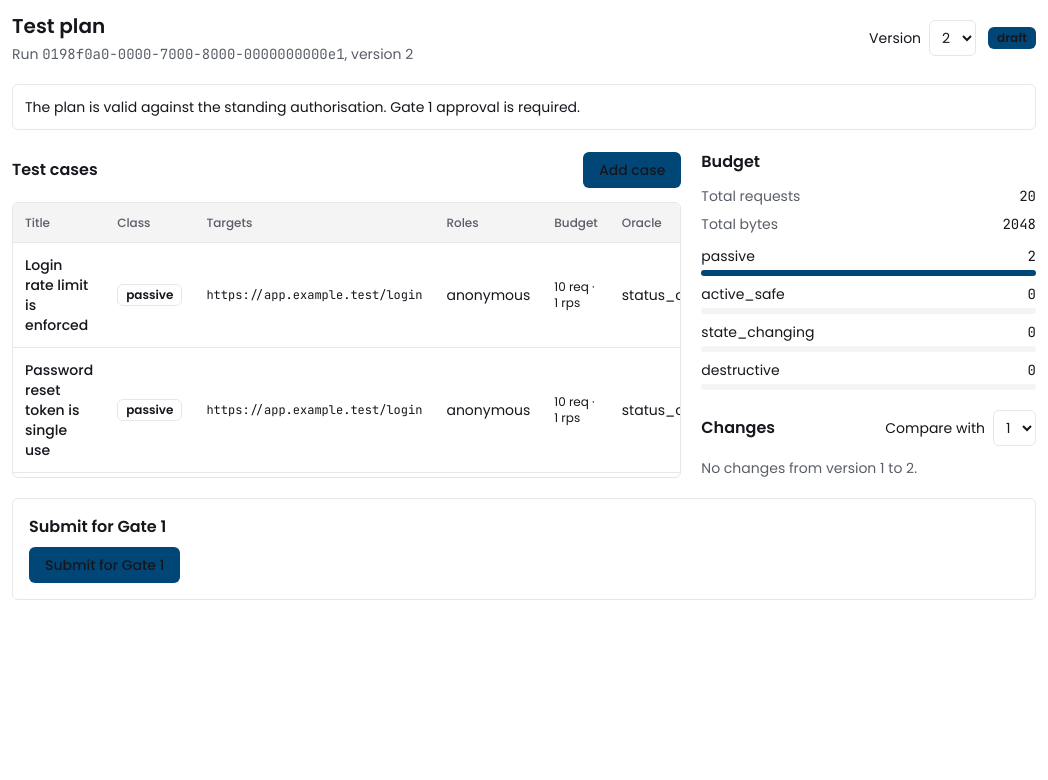
PlanEditor › submits a valid draft for Gate 1 and shows the run awaiting Gate 1
Click the button "Submit for Gate 1".
click(105, 565)  # box x1=29 y1=547 x2=180 y2=583
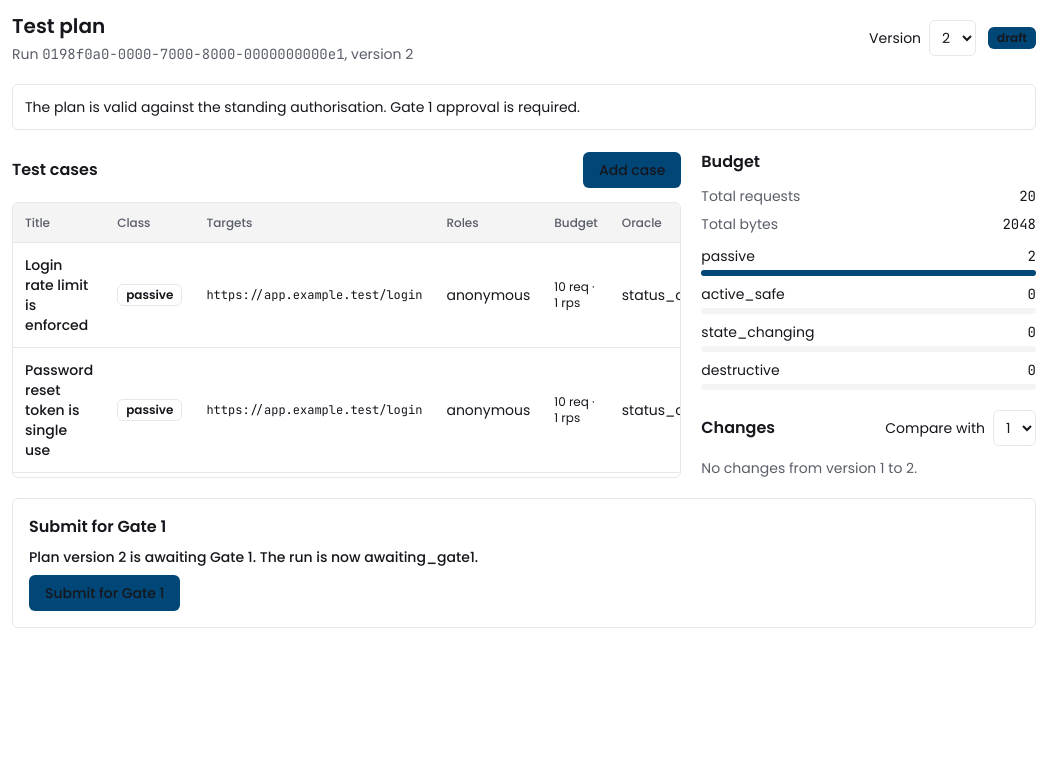
Check: the text "Plan version 2 is awaiting Gate 1. The run is now awaiting_gate1." is shown, box x1=29 y1=547 x2=478 y2=567
